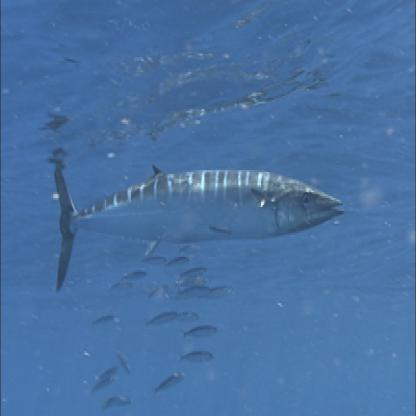Scombridae -Tunas-: (47, 160, 346, 297)
